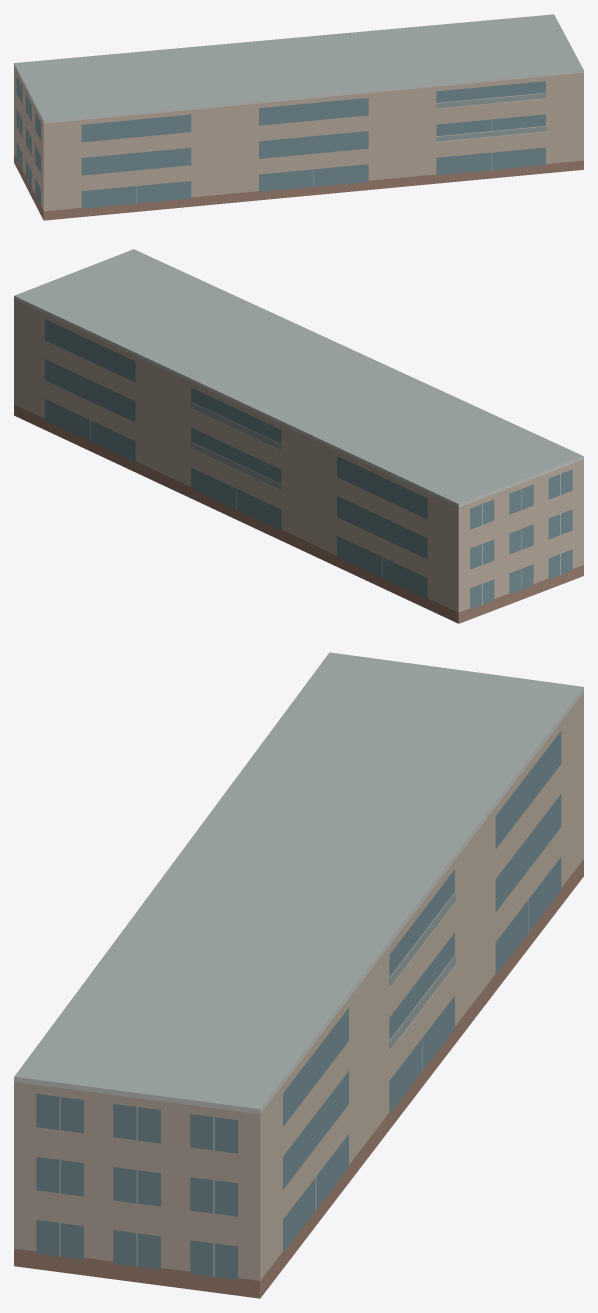
Rendered from survey-upis-32676481.glb.
3 views of the same model, one above another, from view 1: azimuth 30°, elevation 25°; view 2: azimuth 150°, elevation 25°; view 3: azimuth 270°, elevation 25° (orthographic). The views are drawn at different scales.
Parts seen in each view (by area): view 1: survey-upis-32676481.tmp; view 2: survey-upis-32676481.tmp; view 3: survey-upis-32676481.tmp.
Part boxes in pixels (x1=…): survey-upis-32676481.tmp: x1=14, y1=14, x2=583, y2=220; survey-upis-32676481.tmp: x1=14, y1=249, x2=583, y2=623; survey-upis-32676481.tmp: x1=14, y1=652, x2=583, y2=1298.
Size of the model in its own units: 47.34 by 9.15 by 24.96.
